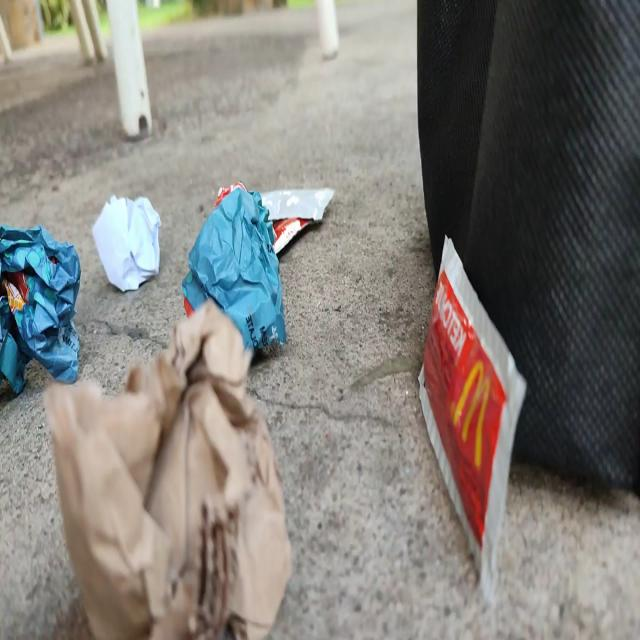paper: (46, 295, 283, 638), (176, 171, 286, 363), (1, 208, 78, 390), (86, 177, 170, 307)
